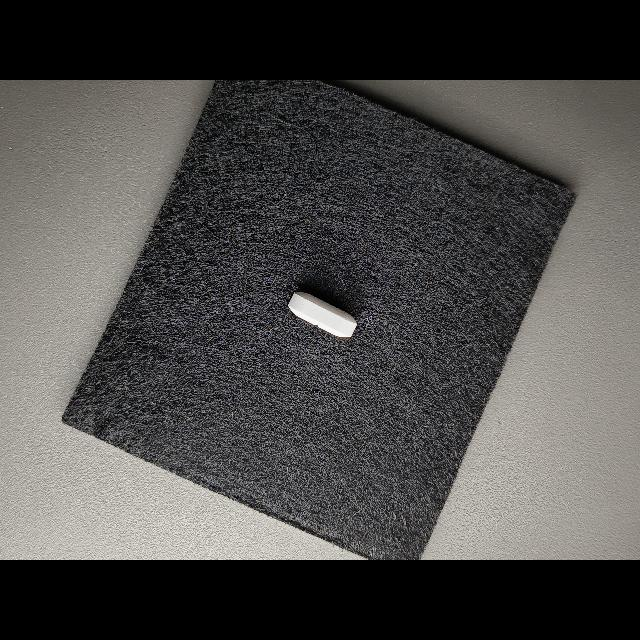Intact Pill: (288, 292, 357, 337)
